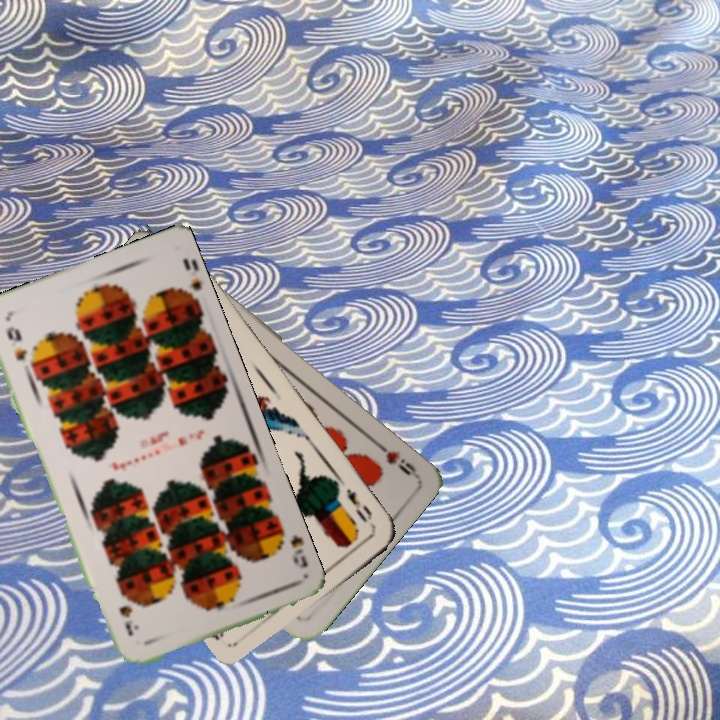EO: (342, 484, 375, 526)
H9: (369, 436, 420, 480)
S9: (272, 522, 310, 571), (2, 322, 30, 364)
